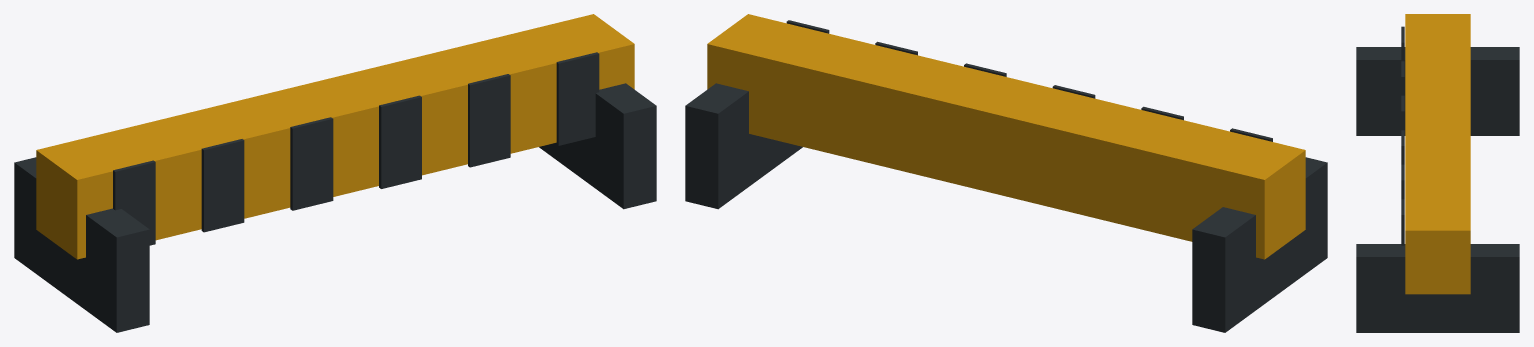
The model's file is barrier.glb.
3 renders of one model, left to right at view 1: azimuth 30°, elevation 25°; view 2: azimuth 150°, elevation 25°; view 3: azimuth 270°, elevation 25°, orthographic. The views are drawn at different scales.
Visible parts, largest first — view 1: LowBarrierMesh; view 2: LowBarrierMesh; view 3: LowBarrierMesh.
Boxes of the visible parts, x1,y1,x2,y2 form: LowBarrierMesh: (14, 14, 656, 332); LowBarrierMesh: (685, 14, 1327, 332); LowBarrierMesh: (1356, 14, 1519, 332).
Size of the model in its own units: 2.2 by 0.505 by 0.7.
